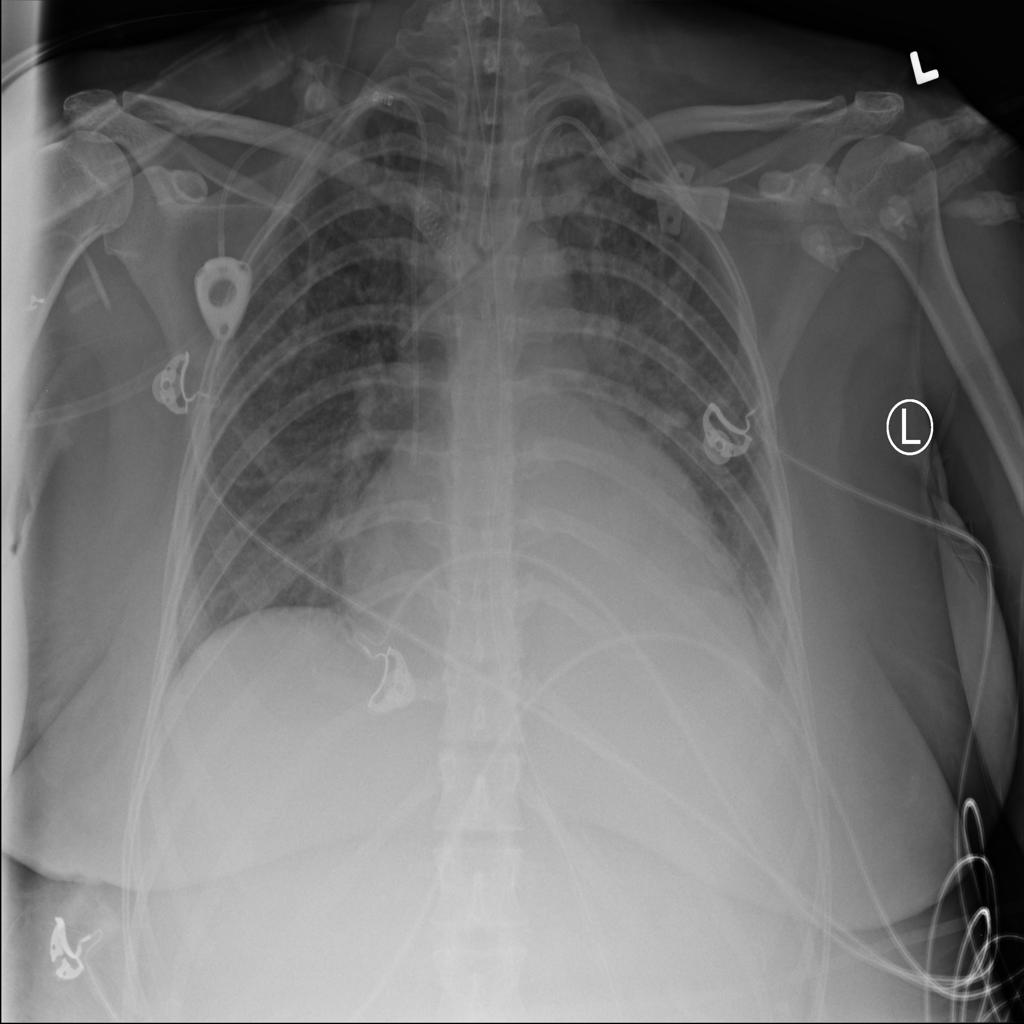Cardiomegaly: (312, 339, 778, 773)
